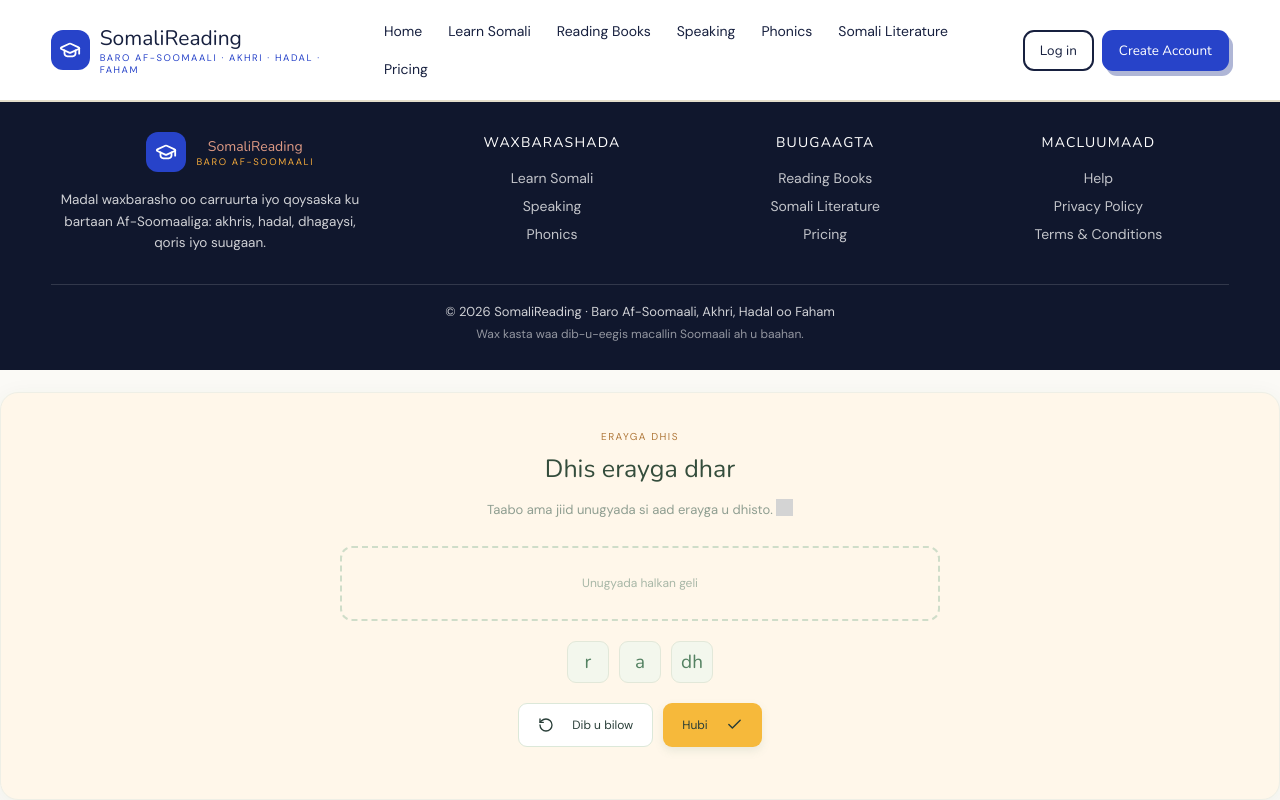
Test case: activity components › builds dhar with a single dh tile
(page scrolled)
Click the button "dh" at (692, 662), box [671,641,713,683]
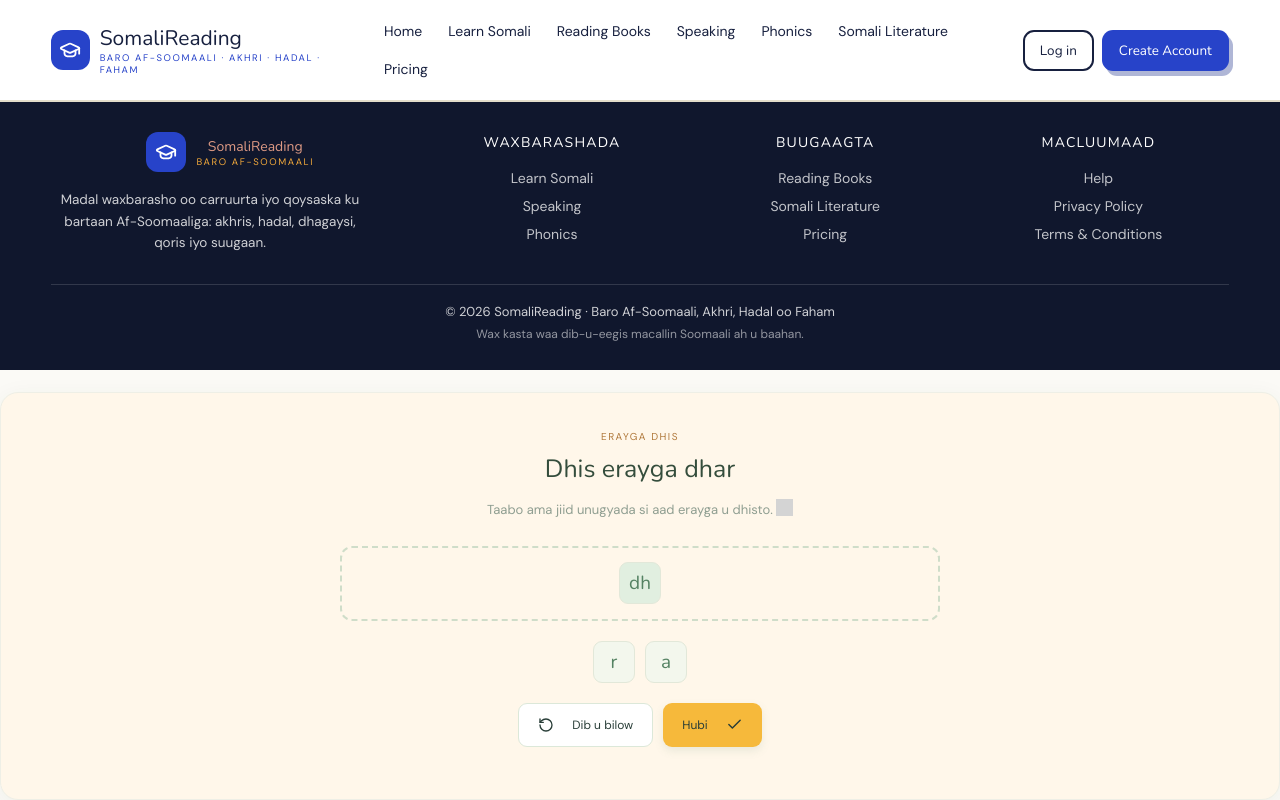
Click the button "a" at (666, 662), box [645,641,687,683]
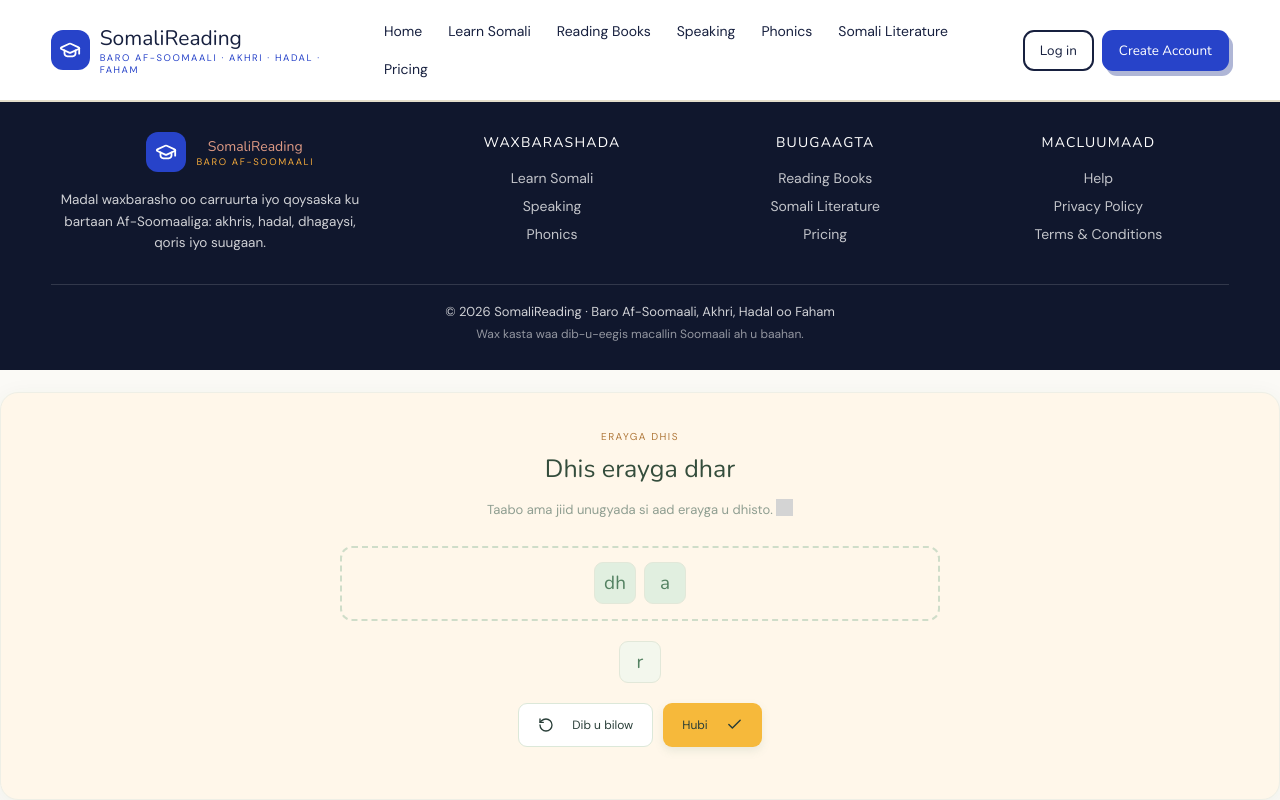
Click the button "r" at (640, 662), box [619,641,661,683]
(page scrolled)
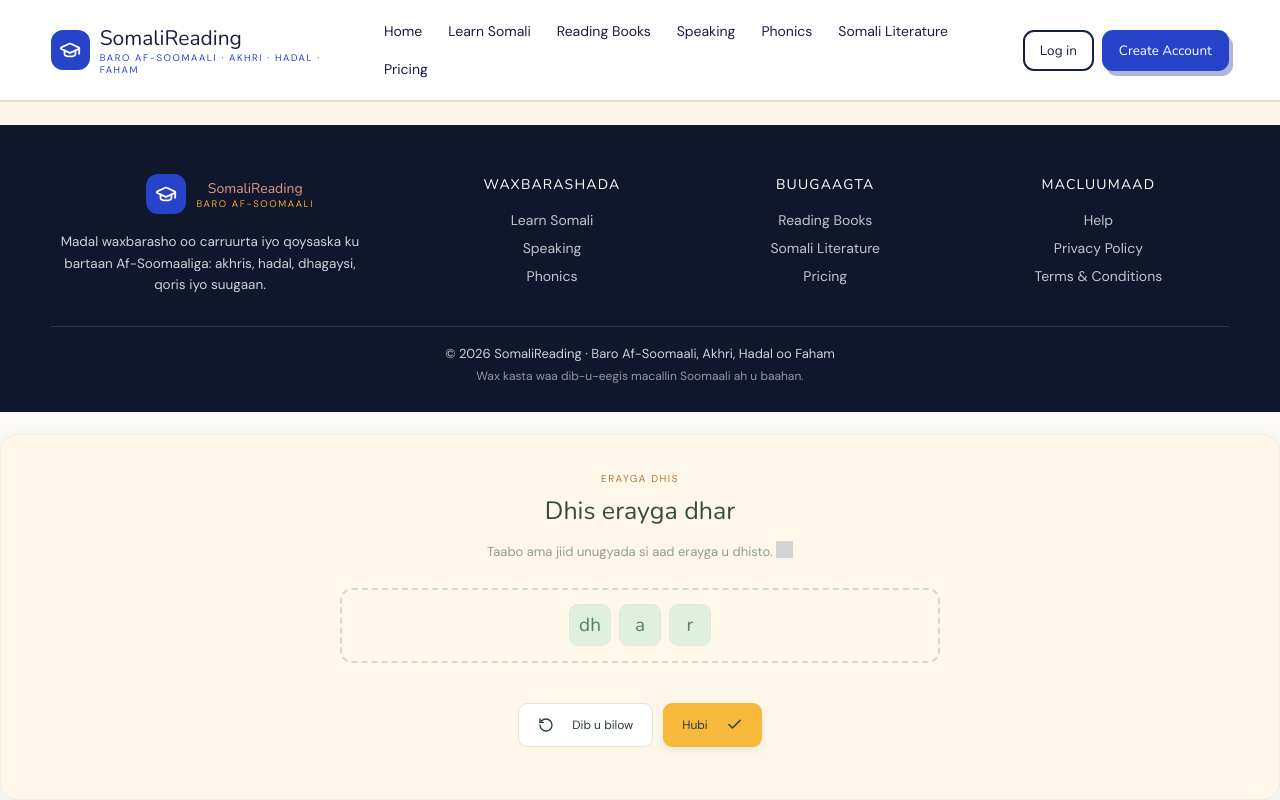
Click the button "Hubi" at (713, 725), box [663,703,762,747]
(page scrolled)
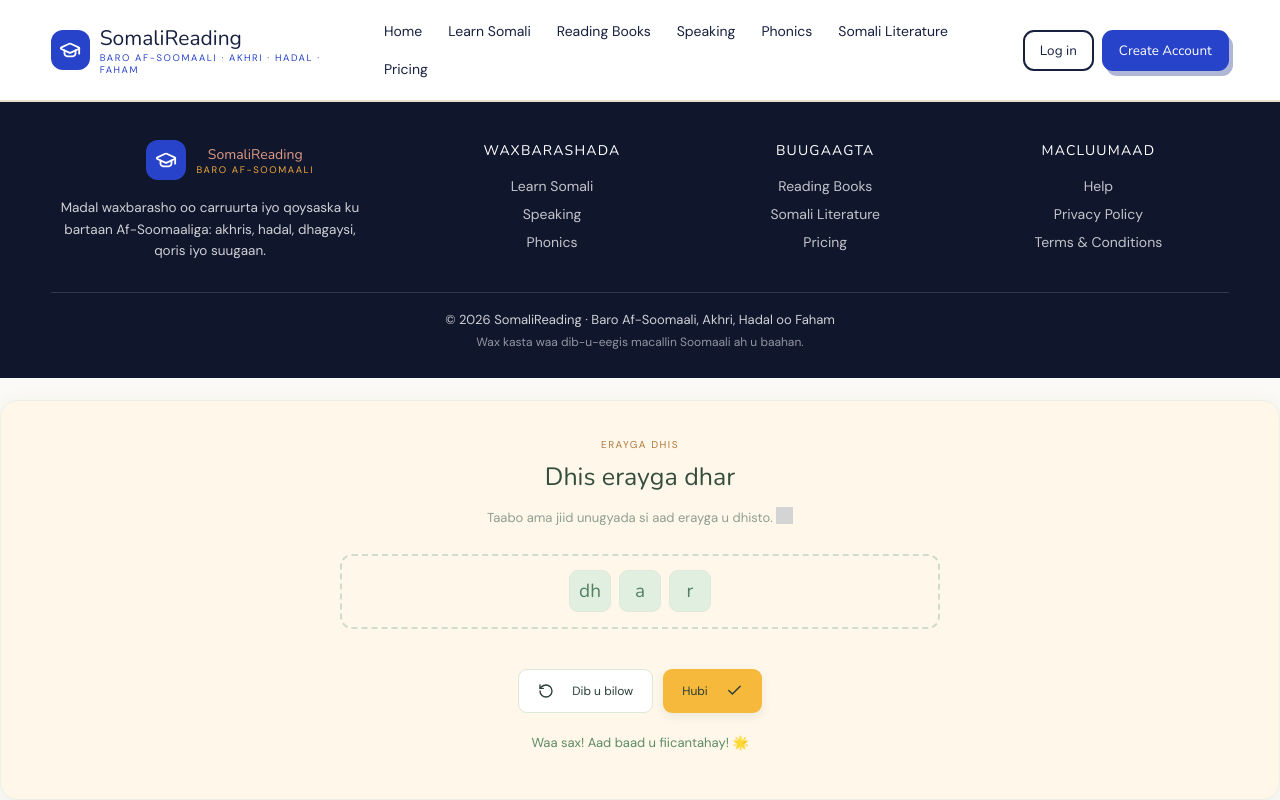
Expected: the message shows "Waa sax", [531,734,749,751]
